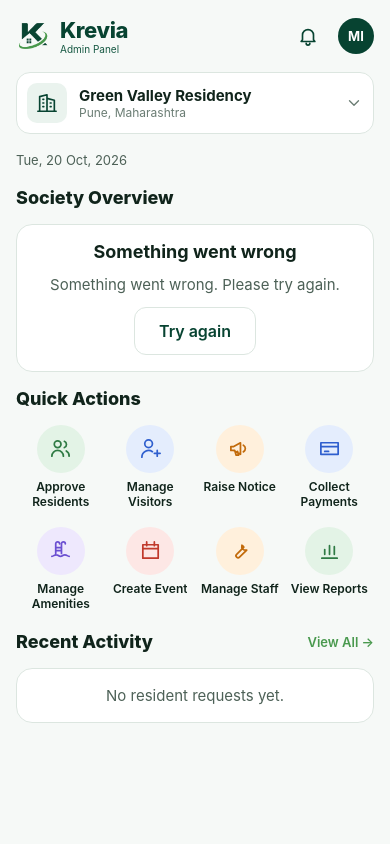
Test: Role dashboards › shows an error with retry when admin stats fail to load
Expected: the text "Something went wrong. Please try again." is shown, [50,274,340,295]
Click the button with test id "retry".
click(195, 331)  # box [134,307,256,355]
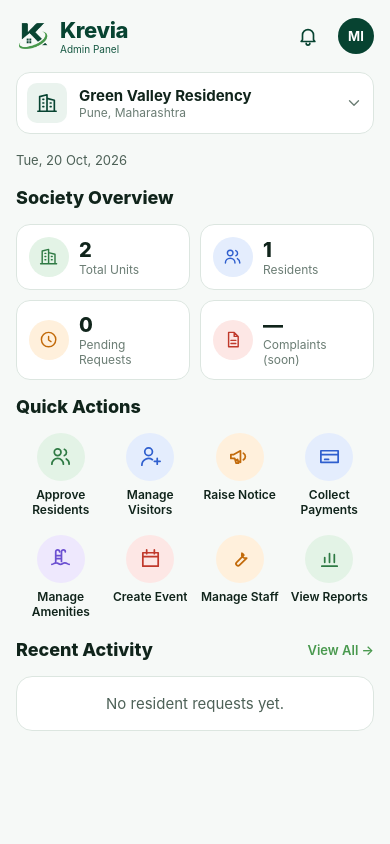
Now the text with test id "stat-units" reads "2", box [79,238,92,262]
